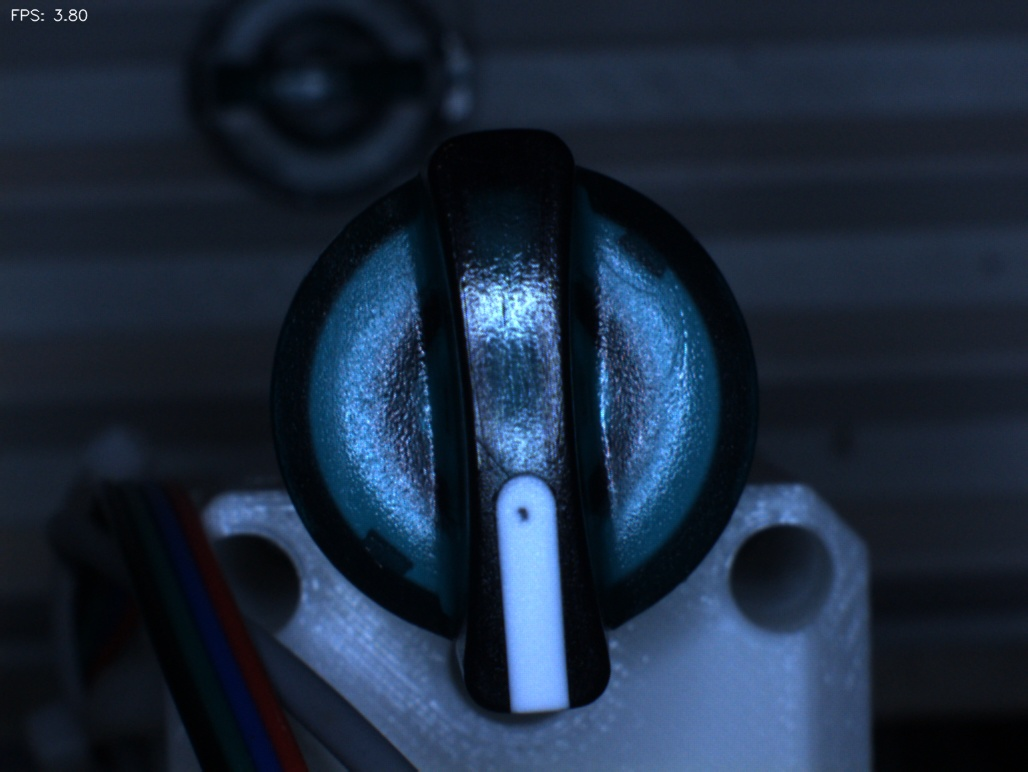PointNoir: (488, 482, 560, 549)
